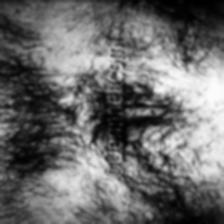Non-Cancerous Skin Condition: (135, 72, 214, 138), (52, 84, 98, 132)
